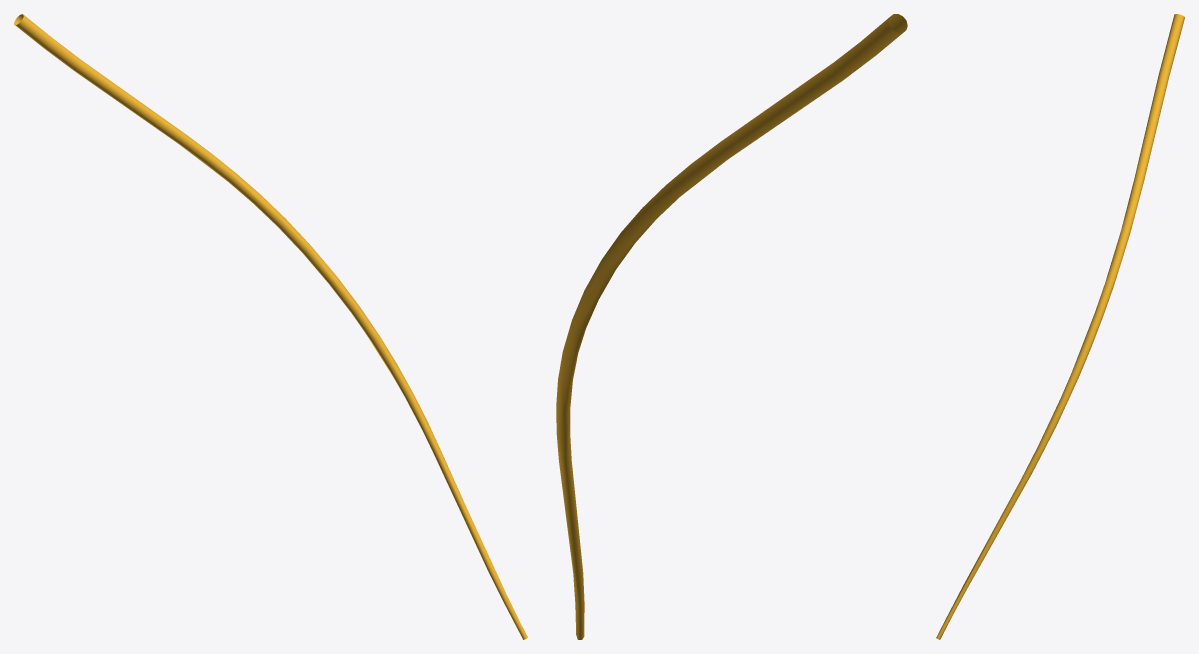
Rendered from nervoso-inferior-lateral-brachial-cutaneous-nerve-l.glb.
3 views of the same model, side by side, from view 1: azimuth 30°, elevation 25°; view 2: azimuth 150°, elevation 25°; view 3: azimuth 270°, elevation 25° (orthographic). The views are drawn at different scales.
Parts seen in each view (by area): view 1: Inferior lateral brachial cutaneous nerve.l; view 2: Inferior lateral brachial cutaneous nerve.l; view 3: Inferior lateral brachial cutaneous nerve.l.
Boxes of the visible parts, x1,y1,x2,y2 form: Inferior lateral brachial cutaneous nerve.l: (14, 14, 527, 639); Inferior lateral brachial cutaneous nerve.l: (556, 14, 907, 639); Inferior lateral brachial cutaneous nerve.l: (936, 14, 1184, 639).
Bounding box in the file's own units: 0.0301 × 0.0475 × 0.022.
